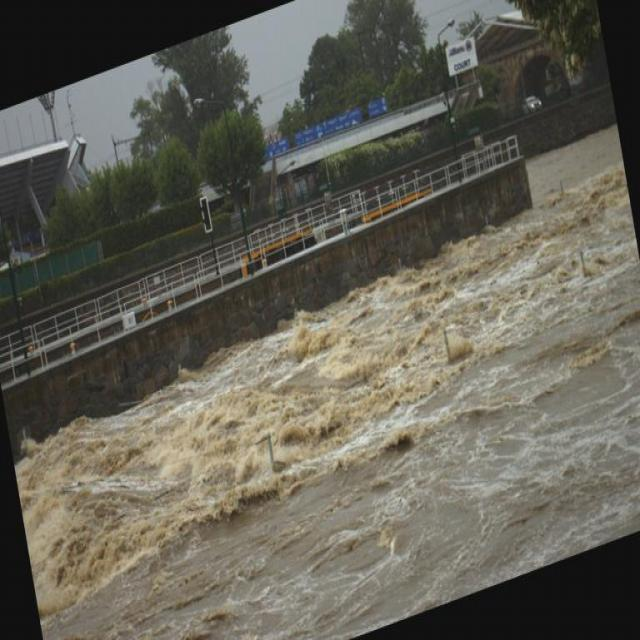flood: (9, 180, 640, 639)
